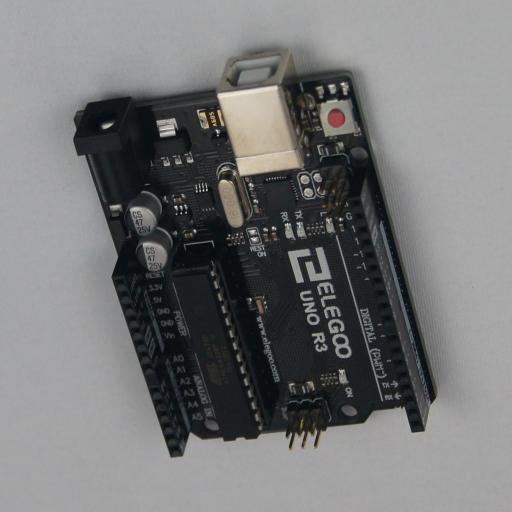Arduino Uno -Black-: (73, 49, 437, 457)
